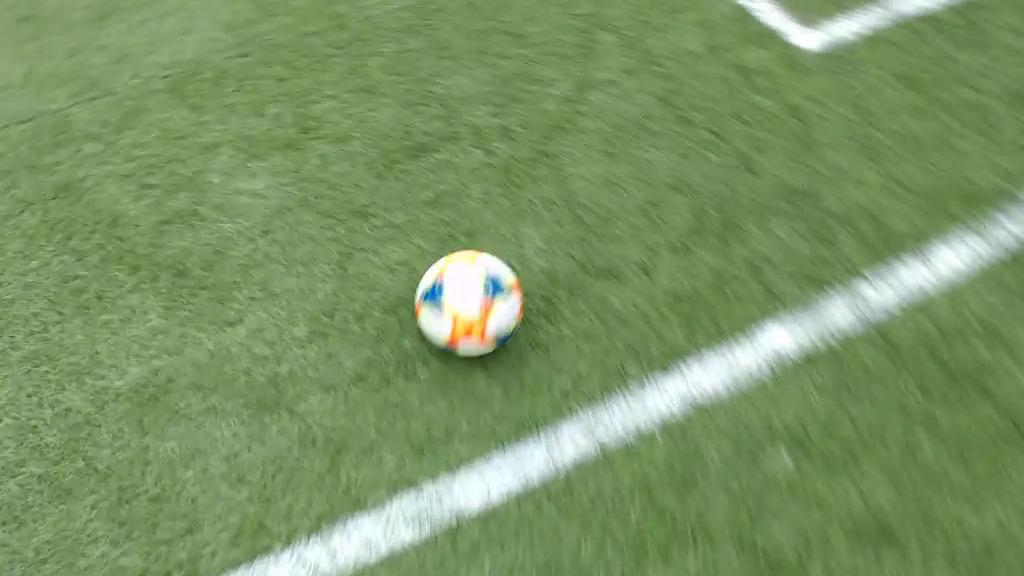ball: (414, 248, 520, 356)
